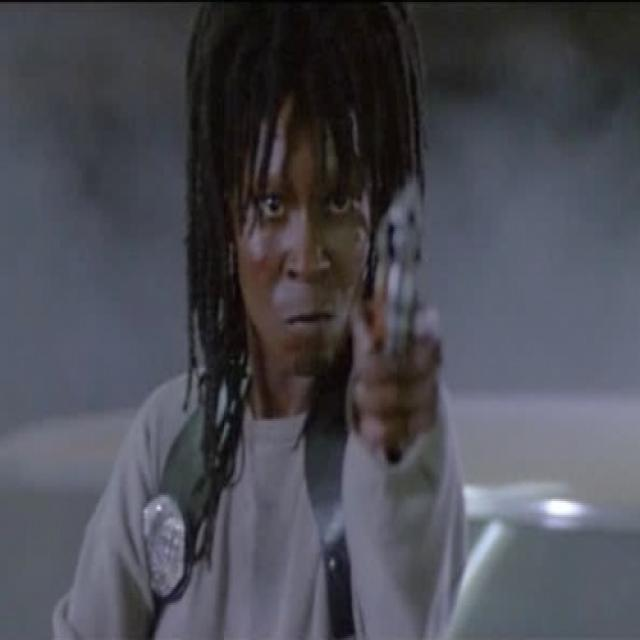weapons: (352, 166, 437, 421)
